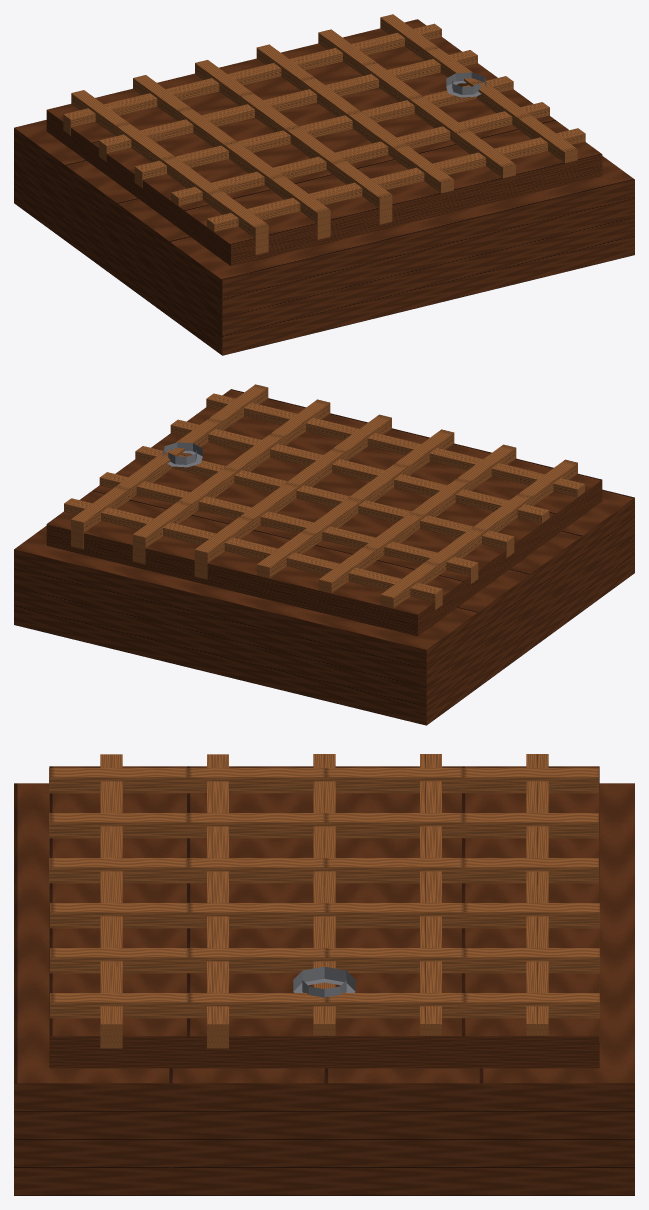
Rendered from pirate-port-and-tall-ships-deck-hatch-grating-21bca609__30156.glb.
3 renders of one model, top to bottom at view 1: azimuth 30°, elevation 25°; view 2: azimuth 150°, elevation 25°; view 3: azimuth 270°, elevation 25°, orthographic. The views are drawn at different scales.
Visible parts, largest first — view 1: deck-hatch-grating, hatch/deck, hatch/oak, hatch/iron; view 2: deck-hatch-grating, hatch/deck, hatch/oak, hatch/iron; view 3: hatch/deck, deck-hatch-grating, hatch/oak, hatch/iron.
Boxes of the visible parts, x1,y1,x2,y2 form: deck-hatch-grating: (14, 120, 634, 355); hatch/deck: (63, 14, 585, 254); hatch/oak: (46, 19, 602, 266); hatch/iron: (446, 72, 486, 97); deck-hatch-grating: (14, 489, 634, 725); hatch/deck: (64, 384, 584, 610); hatch/oak: (46, 389, 602, 636); hatch/iron: (162, 442, 202, 467); hatch/deck: (49, 754, 599, 1048); deck-hatch-grating: (14, 783, 634, 1195); hatch/oak: (49, 766, 599, 1068); hatch/iron: (293, 966, 355, 997).
Bounding box in the file's own units: 1.6 × 0.4211 × 1.4.
3 materials, 2 textured.
